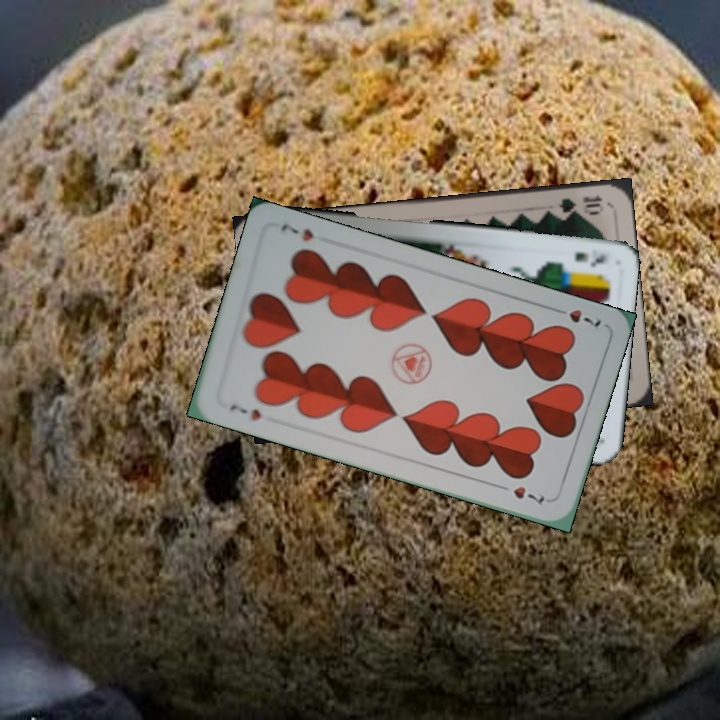EK: (570, 248, 609, 269)
G10: (555, 192, 605, 218)
H7: (548, 303, 604, 330), (225, 400, 264, 423)
